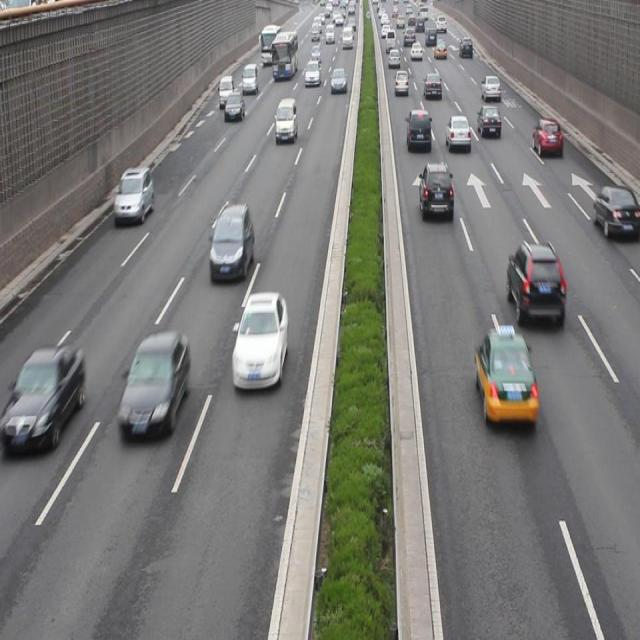car: (116, 331, 191, 439), (11, 348, 86, 450), (473, 326, 538, 428), (233, 288, 289, 391), (505, 240, 564, 329), (209, 206, 255, 282), (590, 182, 640, 237), (114, 166, 153, 222), (418, 164, 453, 220), (530, 117, 562, 158), (444, 114, 471, 155), (476, 105, 500, 138)
truck: (405, 109, 431, 154), (275, 99, 297, 144)
